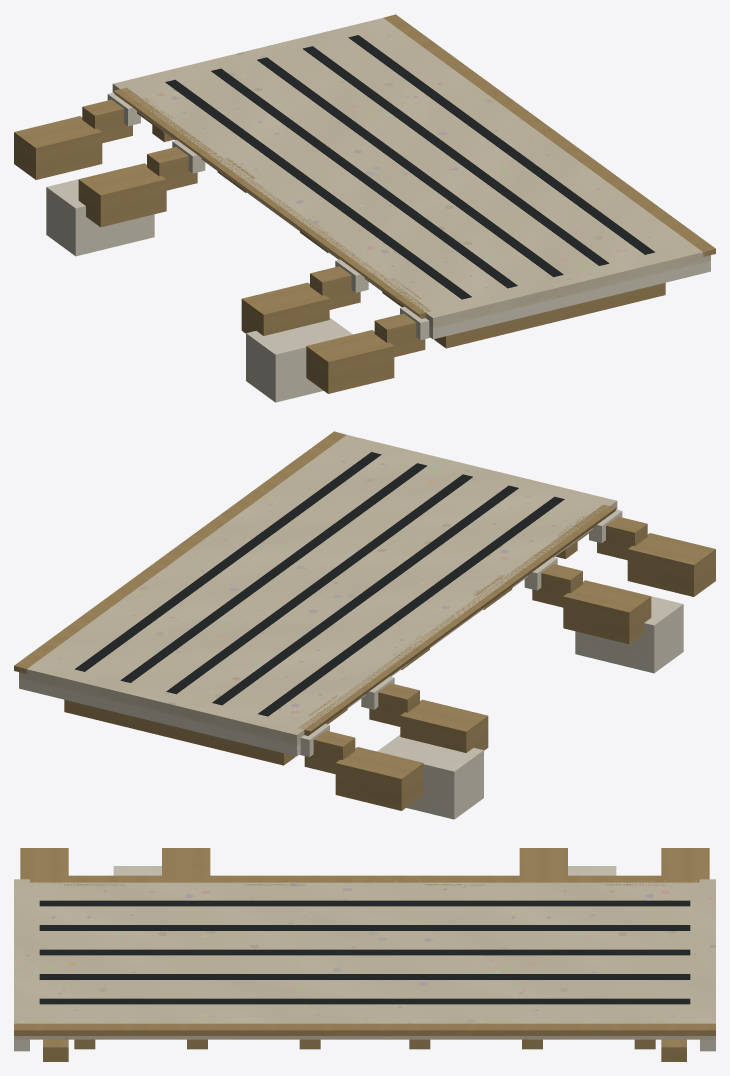
Rendered from AST-TRM-G4-019_boarding_bridge.glb.
The picture shows the model from 3 angles, top to bottom: view 1: azimuth 30°, elevation 25°; view 2: azimuth 150°, elevation 25°; view 3: azimuth 270°, elevation 25°; orthographic projection. The views are drawn at different scales.
Parts seen in each view (by area): view 1: BRIDGE_MainDeck, BRIDGE_HingeDriveHousing_0.68, BRIDGE_FixedHingePin, BRIDGE_CabinReceivingTongue_20mm, BRIDGE_FixedAnchor_0, BRIDGE_FixedAnchor_3, BRIDGE_HingeDriveHousing_-0.68, BRIDGE_FixedAnchor_1, BRIDGE_ProfiledEdge_1.065, BRIDGE_FixedAnchor_2, BRIDGE_RecessedGrip_0, BRIDGE_RecessedGrip_1 (+8 smaller); view 2: BRIDGE_MainDeck, BRIDGE_HingeDriveHousing_-0.68, BRIDGE_FixedHingePin, BRIDGE_CabinReceivingTongue_20mm, BRIDGE_FixedAnchor_0, BRIDGE_FixedAnchor_3, BRIDGE_HingeDriveHousing_0.68, BRIDGE_FixedAnchor_2, BRIDGE_ProfiledEdge_-1.065, BRIDGE_FixedAnchor_1, BRIDGE_RecessedGrip_0, BRIDGE_RecessedGrip_1 (+8 smaller); view 3: BRIDGE_MainDeck, BRIDGE_CabinReceivingTongue_20mm, BRIDGE_FixedHingePin, BRIDGE_RecessedGrip_0, BRIDGE_RecessedGrip_2, BRIDGE_RecessedGrip_4, BRIDGE_RecessedGrip_1, BRIDGE_RecessedGrip_3, BRIDGE_FixedAnchor_0, BRIDGE_FixedAnchor_3, BRIDGE_FixedAnchor_1, BRIDGE_FixedAnchor_2 (+4 smaller).
Part boxes in pixels (bbox=[...]): BRIDGE_MainDeck: bbox=[112, 18, 710, 328]; BRIDGE_HingeDriveHousing_0.68: bbox=[246, 318, 352, 402]; BRIDGE_FixedHingePin: bbox=[113, 87, 430, 318]; BRIDGE_CabinReceivingTongue_20mm: bbox=[383, 14, 715, 256]; BRIDGE_FixedAnchor_0: bbox=[14, 116, 102, 179]; BRIDGE_FixedAnchor_3: bbox=[306, 330, 394, 393]; BRIDGE_HingeDriveHousing_-0.68: bbox=[46, 168, 154, 256]; BRIDGE_FixedAnchor_1: bbox=[78, 163, 166, 227]; BRIDGE_ProfiledEdge_1.065: bbox=[429, 258, 710, 339]; BRIDGE_FixedAnchor_2: bbox=[241, 282, 329, 335]; BRIDGE_RecessedGrip_0: bbox=[165, 79, 471, 299]; BRIDGE_RecessedGrip_1: bbox=[211, 68, 517, 288]; BRIDGE_MainDeck: bbox=[19, 435, 617, 745]; BRIDGE_HingeDriveHousing_-0.68: bbox=[377, 735, 483, 819]; BRIDGE_FixedHingePin: bbox=[298, 504, 616, 735]; BRIDGE_CabinReceivingTongue_20mm: bbox=[14, 431, 346, 673]; BRIDGE_FixedAnchor_0: bbox=[335, 747, 423, 810]; BRIDGE_FixedAnchor_3: bbox=[627, 533, 715, 596]; BRIDGE_HingeDriveHousing_0.68: bbox=[575, 585, 683, 673]; BRIDGE_FixedAnchor_2: bbox=[563, 580, 651, 644]; BRIDGE_ProfiledEdge_-1.065: bbox=[19, 676, 300, 756]; BRIDGE_FixedAnchor_1: bbox=[400, 699, 488, 752]; BRIDGE_RecessedGrip_0: bbox=[258, 496, 564, 716]; BRIDGE_RecessedGrip_1: bbox=[212, 485, 518, 705]; BRIDGE_MainDeck: bbox=[14, 879, 715, 1039]; BRIDGE_CabinReceivingTongue_20mm: bbox=[14, 1023, 715, 1035]; BRIDGE_FixedHingePin: bbox=[30, 875, 699, 882]; BRIDGE_RecessedGrip_0: bbox=[39, 900, 690, 906]; BRIDGE_RecessedGrip_2: bbox=[39, 949, 690, 955]; BRIDGE_RecessedGrip_4: bbox=[39, 998, 690, 1004]; BRIDGE_RecessedGrip_1: bbox=[39, 925, 690, 930]; BRIDGE_RecessedGrip_3: bbox=[39, 974, 690, 979]; BRIDGE_FixedAnchor_0: bbox=[661, 848, 709, 879]; BRIDGE_FixedAnchor_3: bbox=[20, 848, 68, 879]; BRIDGE_FixedAnchor_1: bbox=[519, 848, 567, 875]; BRIDGE_FixedAnchor_2: bbox=[162, 848, 210, 875].
Size of the model in its own units: 1.55 by 0.3415 by 2.18.
Materials: 4 (4 with a texture image).
